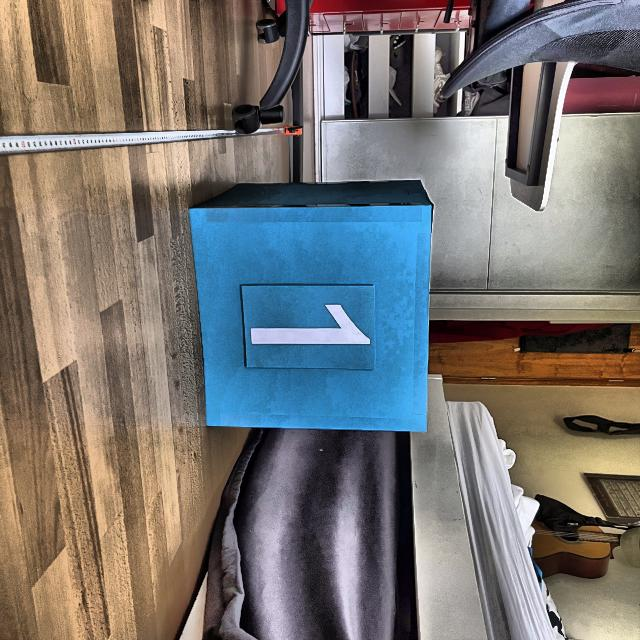blue box: (193, 176, 426, 434)
one: (248, 302, 374, 352)
